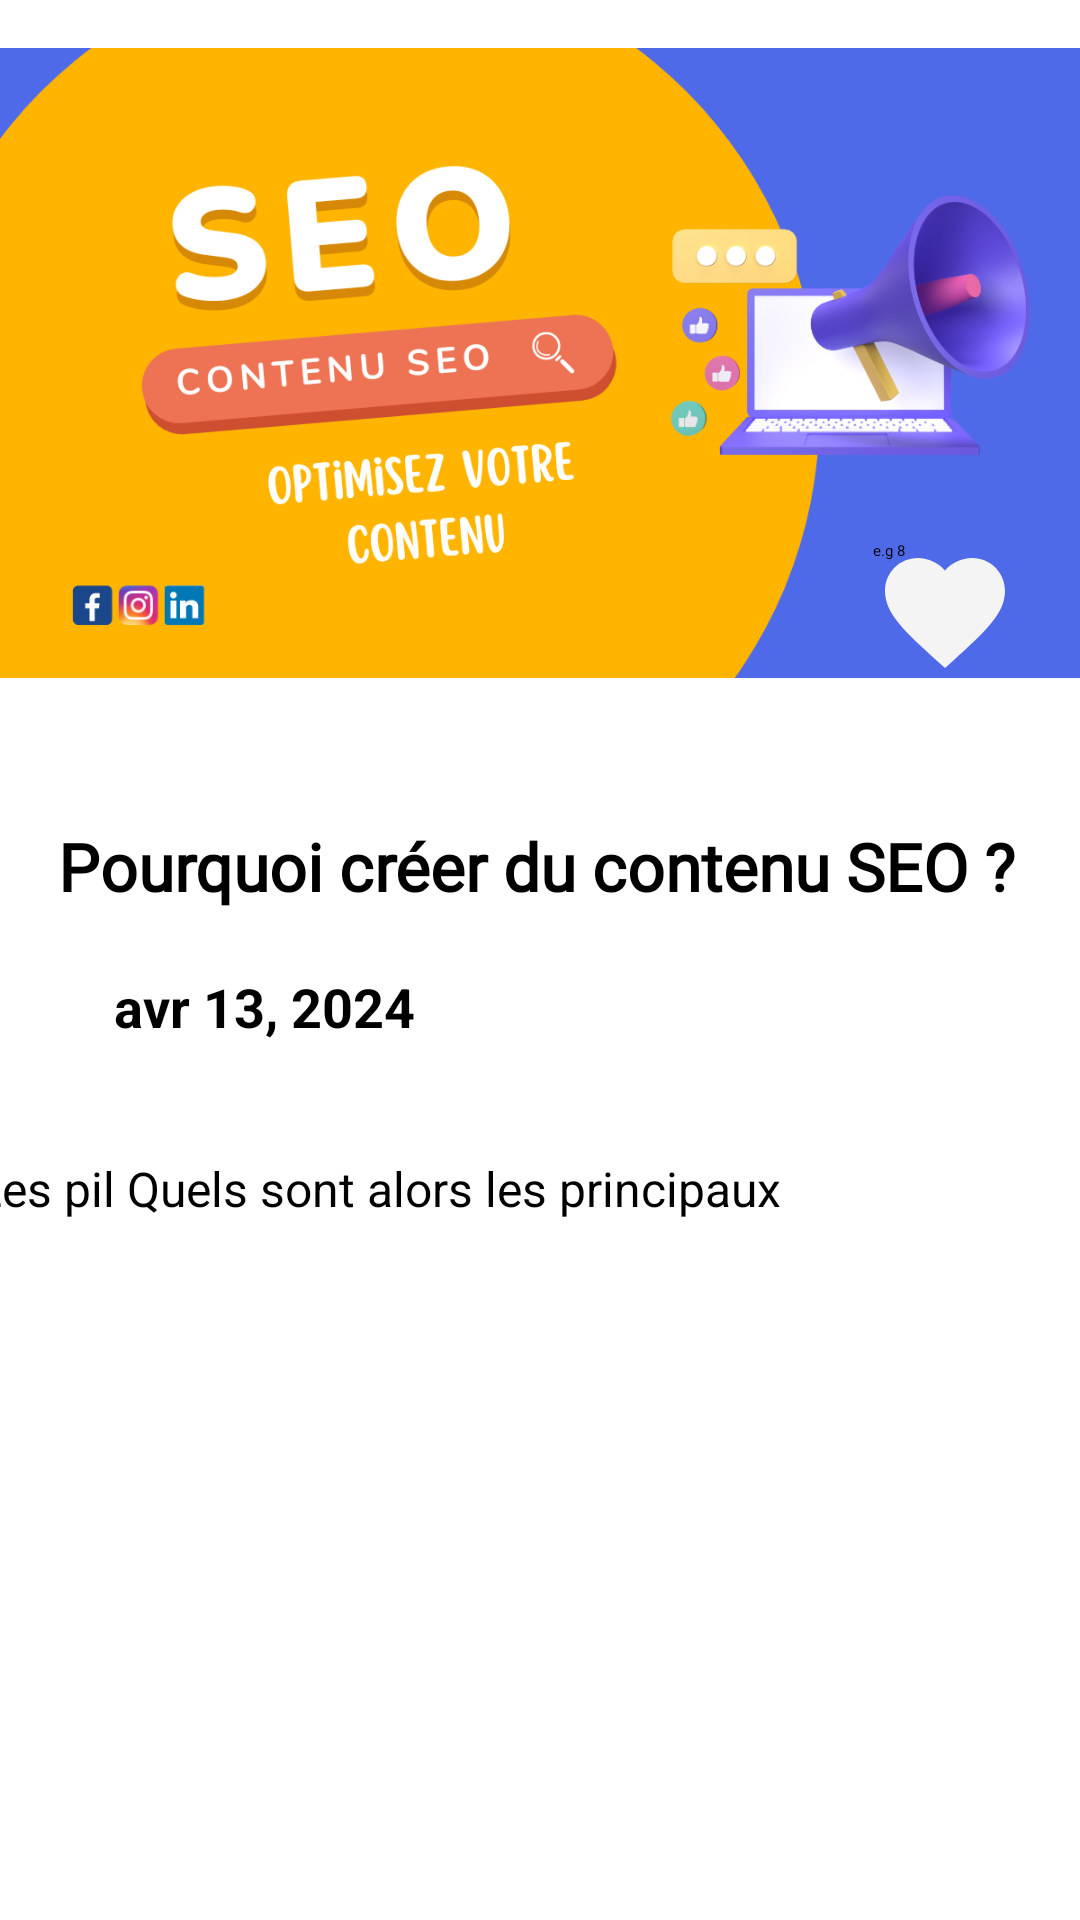

Where to tap for icons on this 1080px×1920px app screen, as (x,y):
favourite: (939,606)
